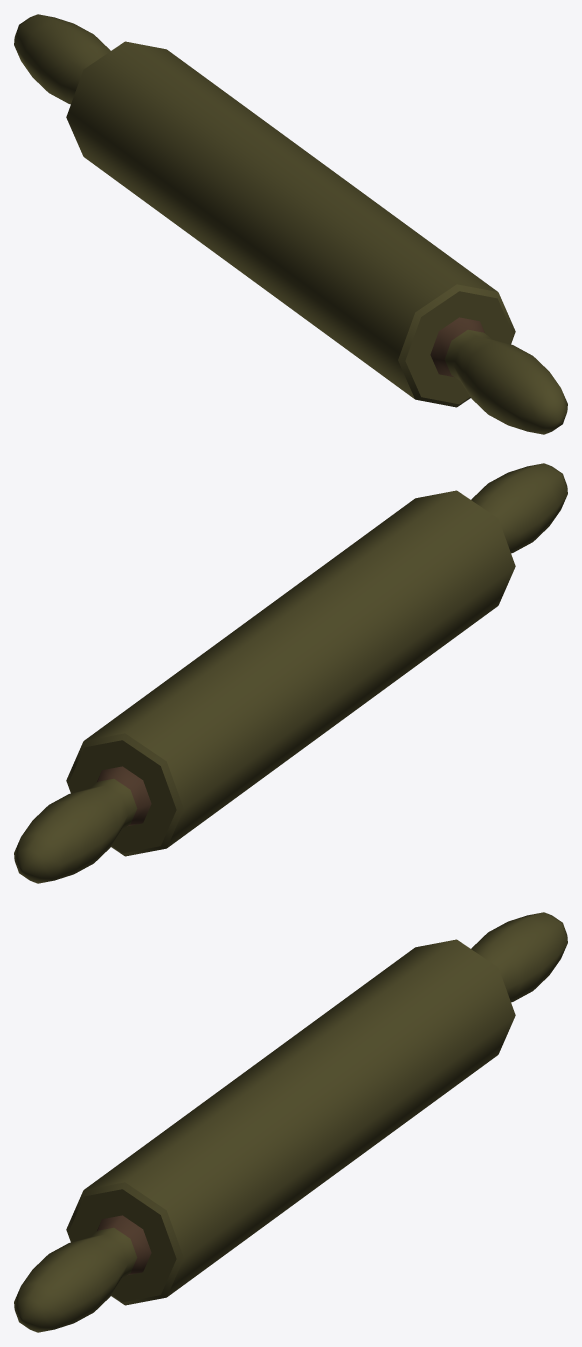
File: Rubbish2.fbx
3 views of the same model, one above another, from view 1: azimuth 30°, elevation 25°; view 2: azimuth 150°, elevation 25°; view 3: azimuth 330°, elevation 25° (orthographic).
Parts seen in each view (by area): view 1: RollingPin; view 2: RollingPin; view 3: RollingPin.
Part boxes in pixels (<box>): RollingPin: <box>14,14,567,434</box>; RollingPin: <box>14,463,567,883</box>; RollingPin: <box>14,912,567,1332</box>.
Size of the model in its own units: 22 by 22 by 174.
